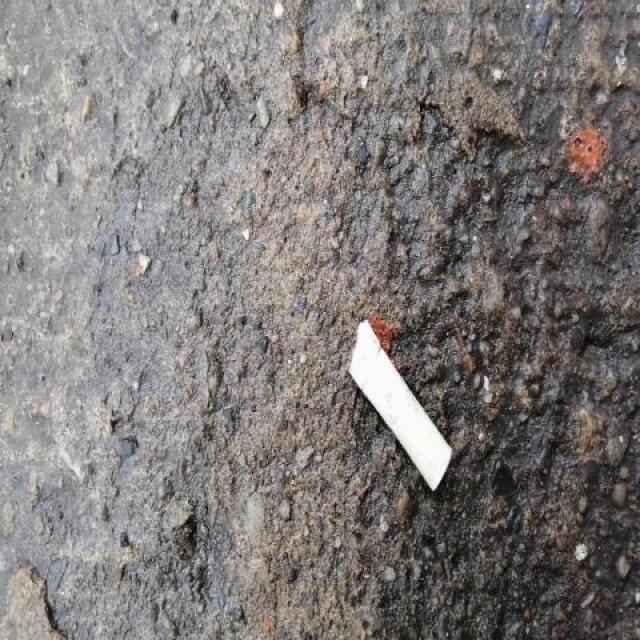non-organic waste: (348, 316, 456, 500)
